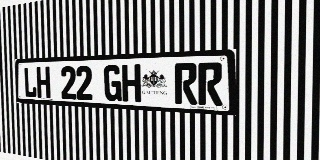2: (76, 65, 92, 100), (61, 66, 76, 100)
G: (104, 65, 122, 101)
H: (122, 64, 141, 102), (36, 67, 50, 98)
L: (23, 67, 37, 98)
R: (198, 62, 223, 106), (174, 63, 197, 105)
